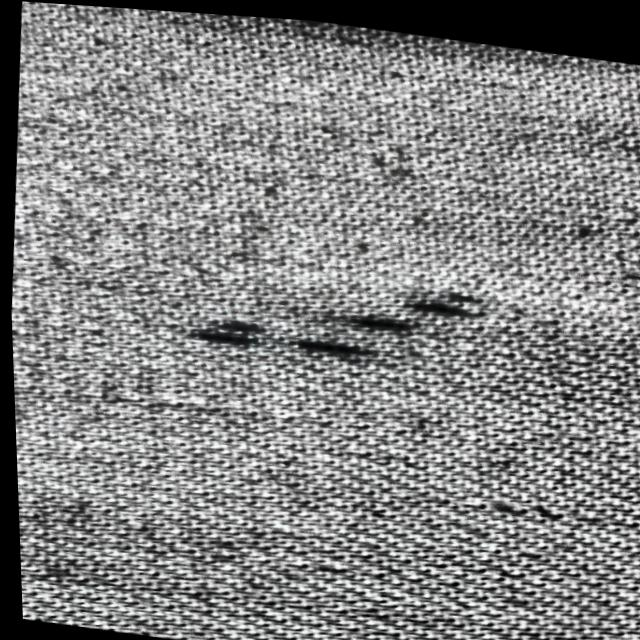Hole: (408, 282, 489, 320), (186, 311, 250, 343), (283, 329, 363, 352), (350, 301, 400, 333)
